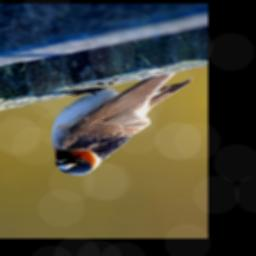Swallow: (50, 68, 194, 176)
